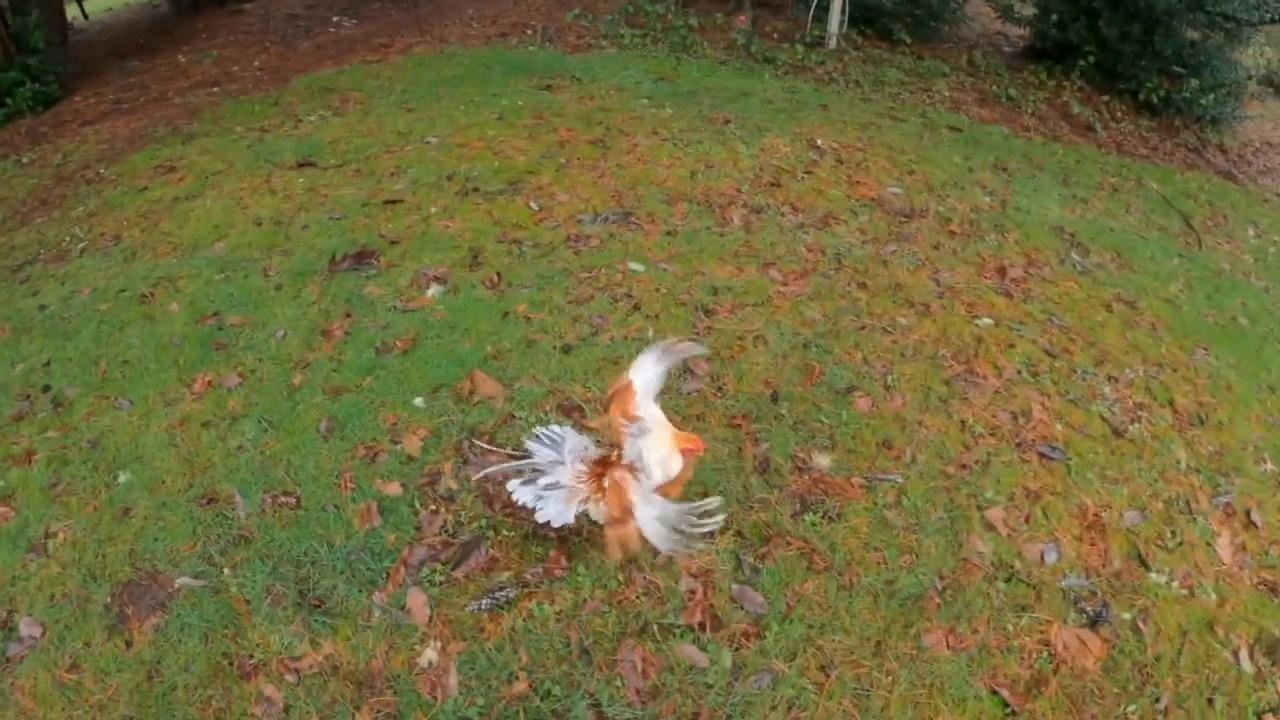Normal: (500, 342, 732, 564)
